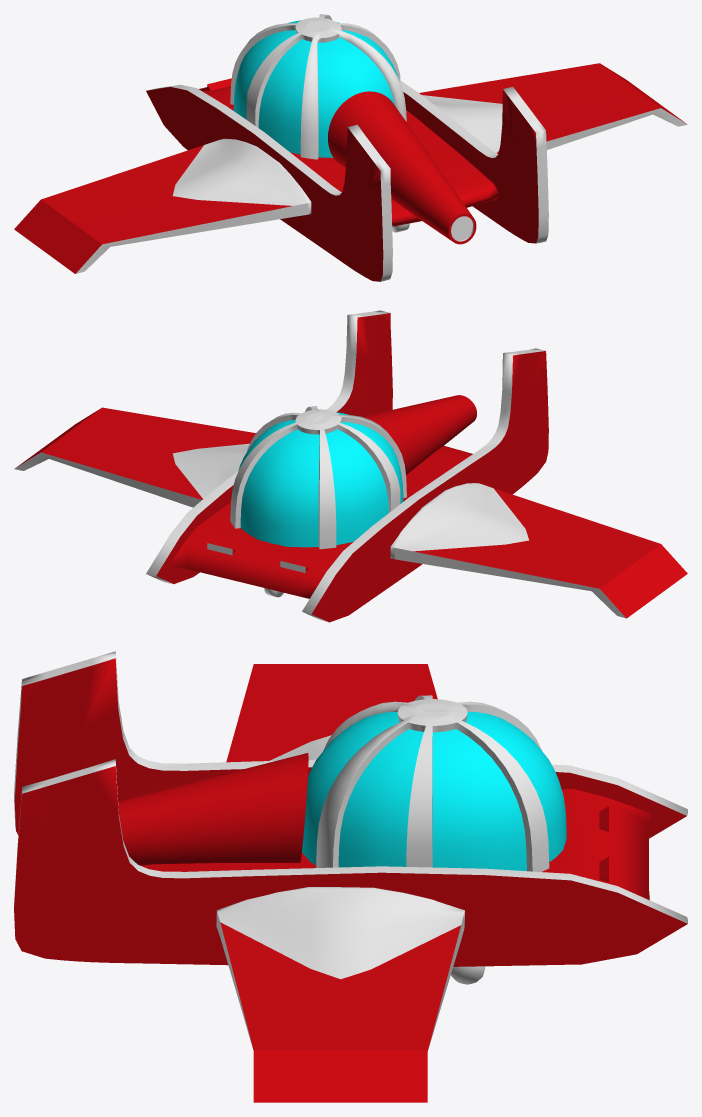
File: PC_ship.fbx
3 renders of one model, top to bottom at view 1: azimuth 30°, elevation 25°; view 2: azimuth 150°, elevation 25°; view 3: azimuth 270°, elevation 25°, orthographic. The views are drawn at different scales.
Parts seen in each view (by area): view 1: Cube.003; view 2: Cube.003; view 3: Cube.003.
Boxes of the visible parts, x1=… form: Cube.003: x1=14, y1=14, x2=687, y2=281; Cube.003: x1=14, y1=310, x2=687, y2=622; Cube.003: x1=14, y1=651, x2=687, y2=1102.
Size of the model in its own units: 921 by 254 by 618.
